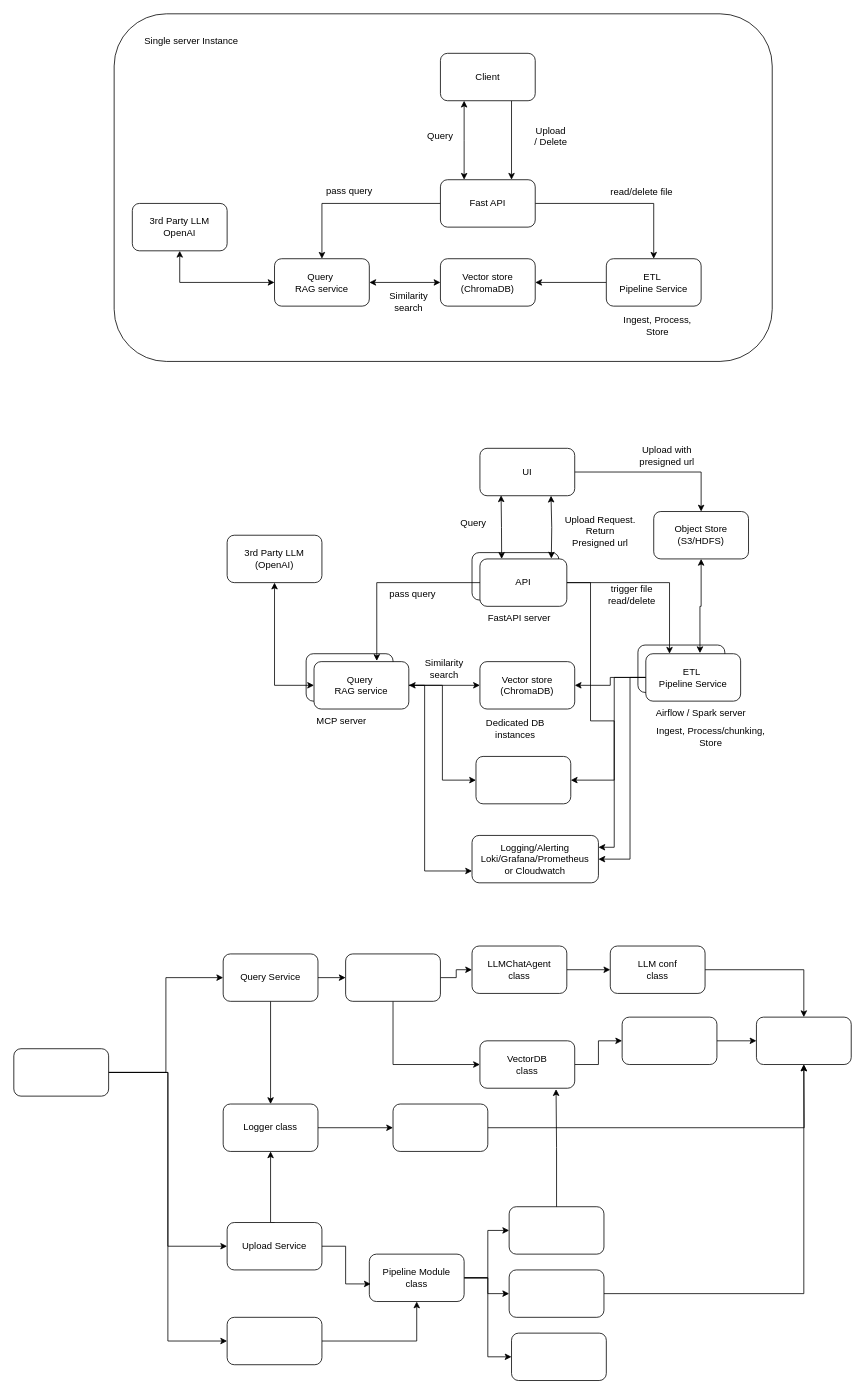
The diagram is 865 pixels wide and 1394 high, and some of its shapes have lost their labels. The shapes that lost their labels are listed below. From the top down, each one's box as (x1, y1, x2, y2) in pixels, then its label:
(475, 756, 571, 804): SQL / NoSQL (Metadata) (MySQL / MongoDB)
(345, 953, 440, 1001): Query Module class
(621, 1016, 717, 1065): Vector Conf
(756, 1016, 851, 1065): Config
(13, 1048, 109, 1096): Controller
(392, 1103, 488, 1151): Logger Conf
(508, 1206, 604, 1254): Store Module class
(508, 1269, 604, 1317): Process Module class
(226, 1317, 322, 1365): Delete Service
(511, 1332, 606, 1381): Ingest Module class
